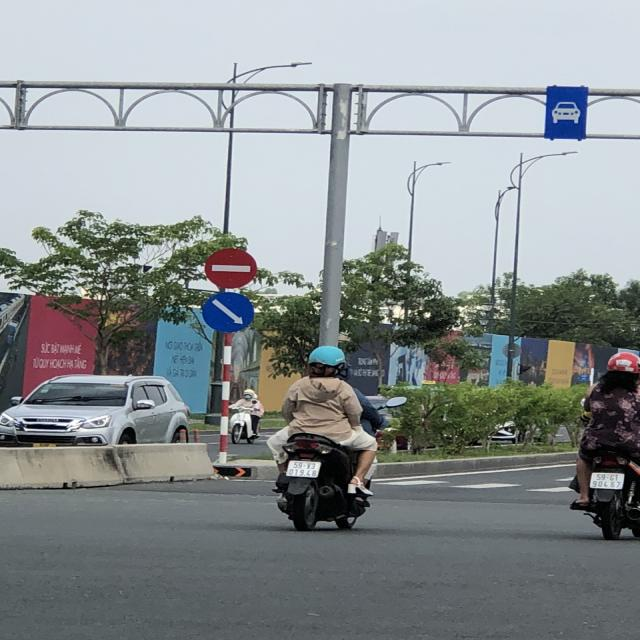Bien bao cam di nguoc chieu: (202, 242, 264, 290)
